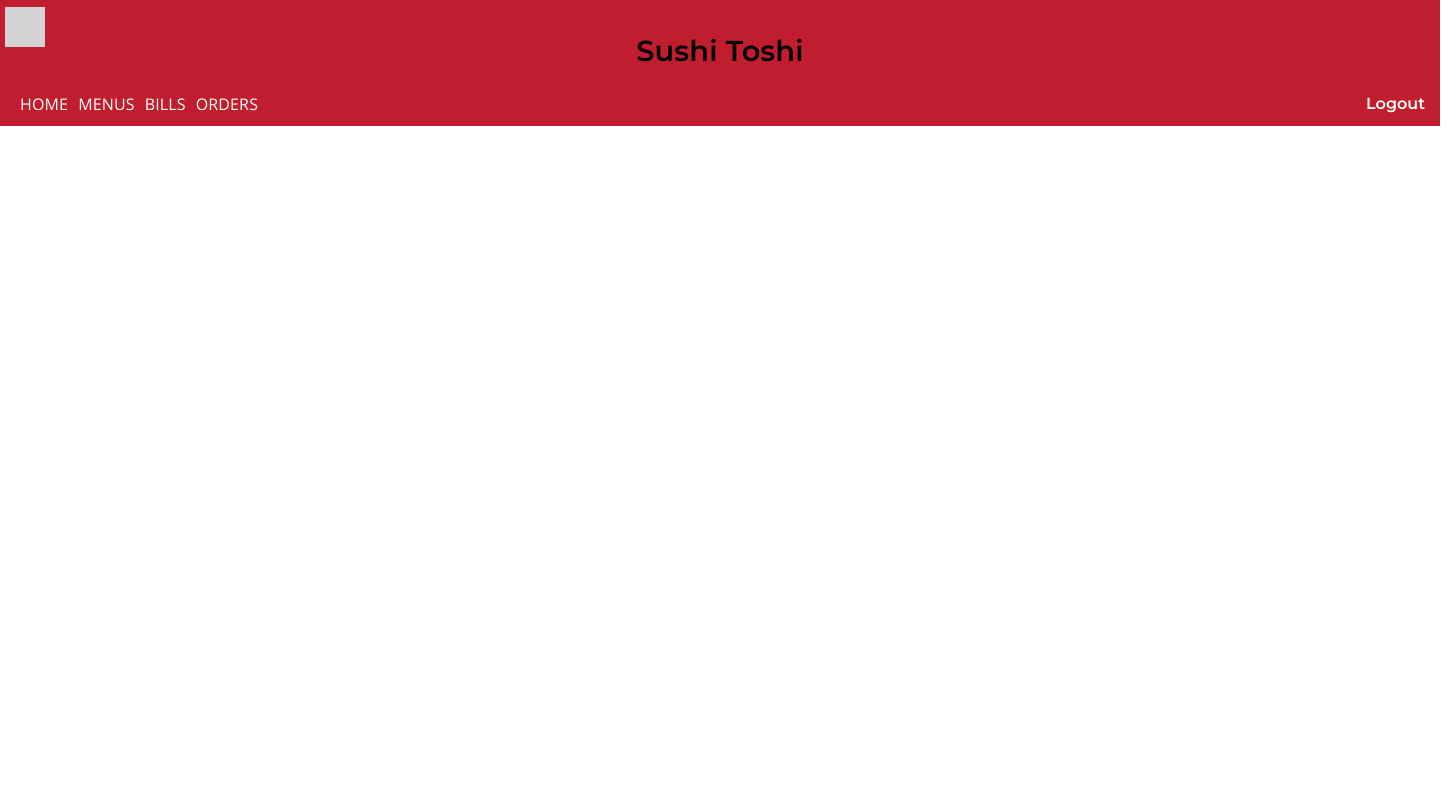
Header › Customer Navigation › toggles menu dropdown on multiple clicks
Note: Open dropdown
What coordinates should you click on to do the following:
click the text "MENUS"
I would click on:
 (106, 104)
Its box is [78, 93, 135, 115].
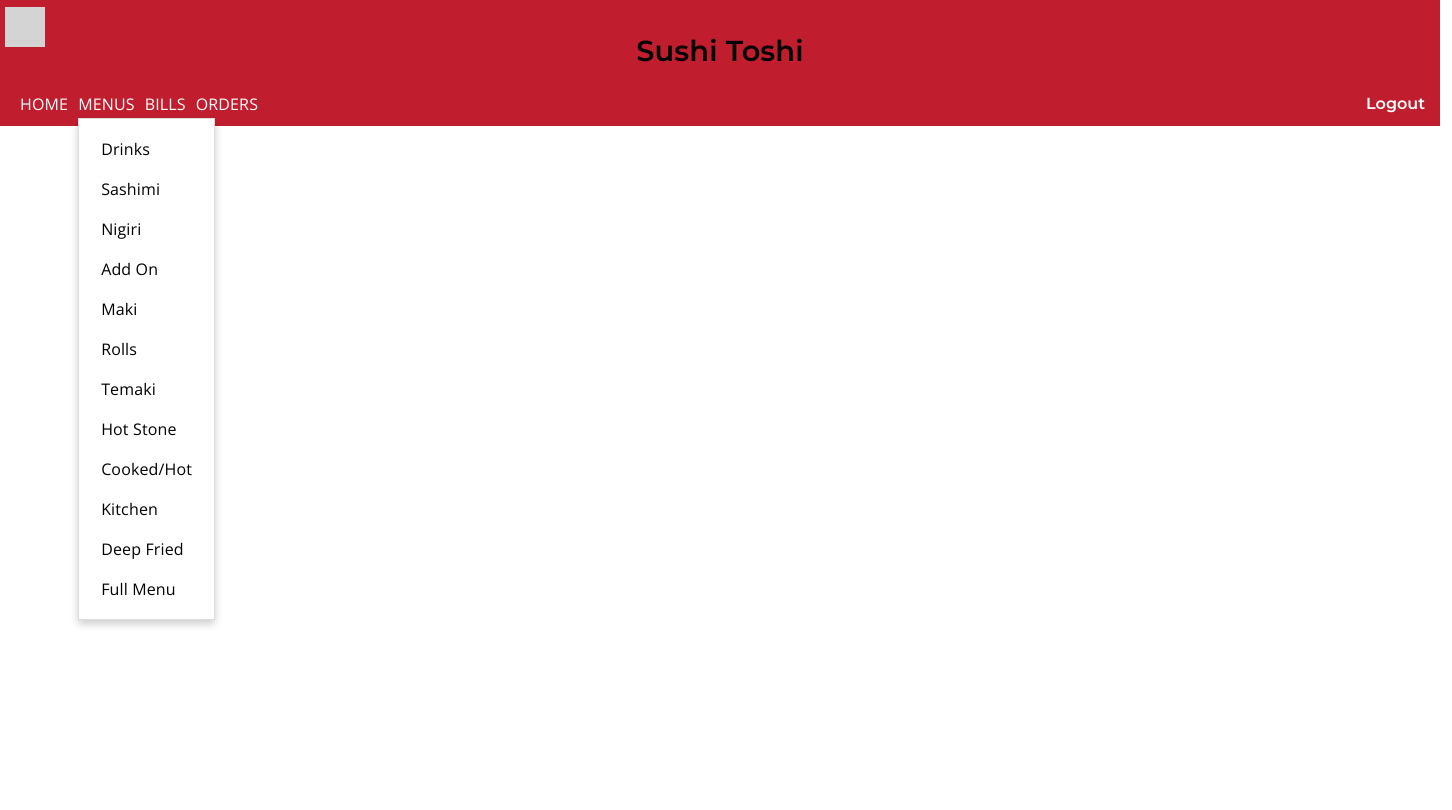
Now the link "Drinks" is shown, box [101, 138, 150, 160]
Note: Close dropdown
What coordinates should you click on to do the following:
click the text "MENUS"
I would click on:
 (106, 104)
Its box is [78, 93, 135, 115].
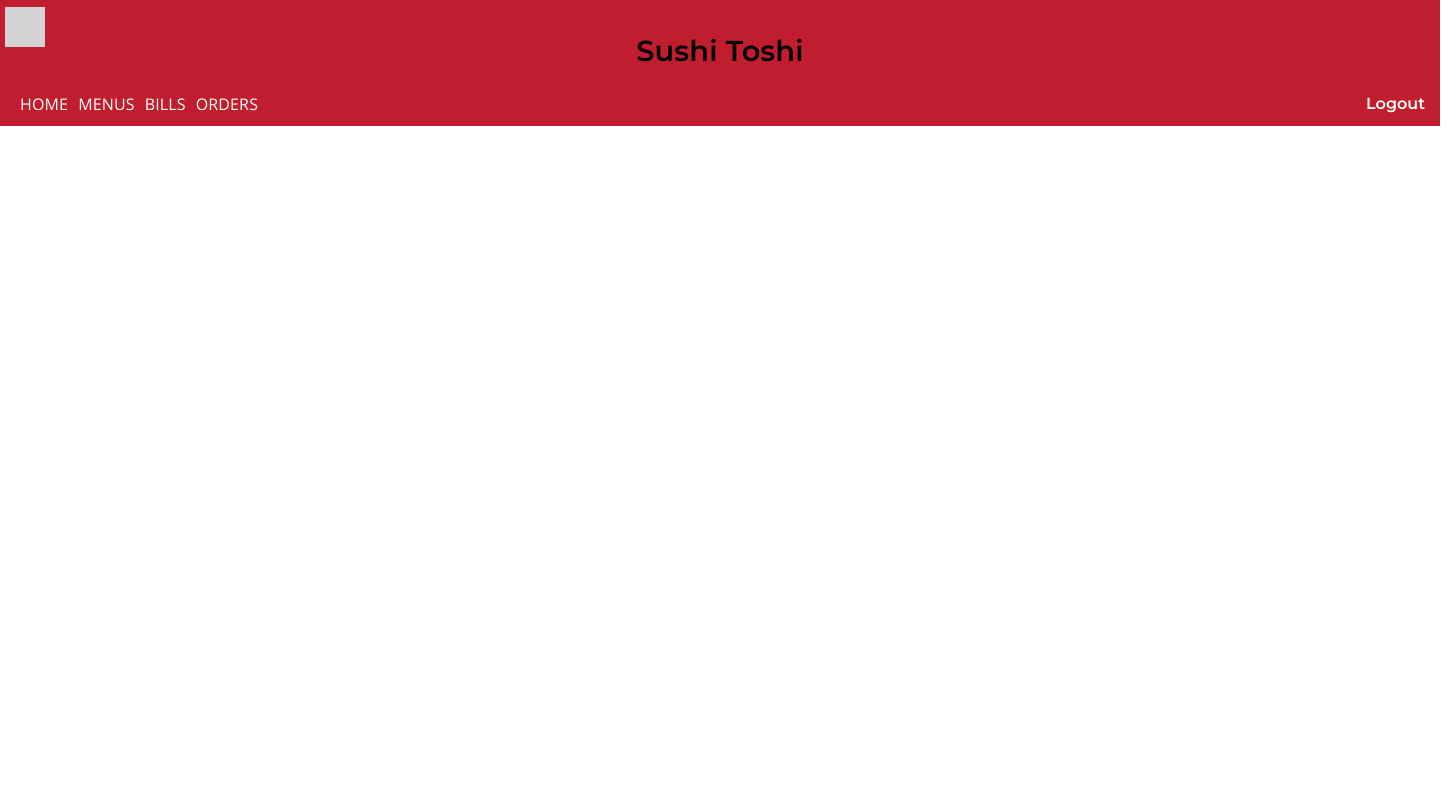
Now the link "Drinks" is gone
